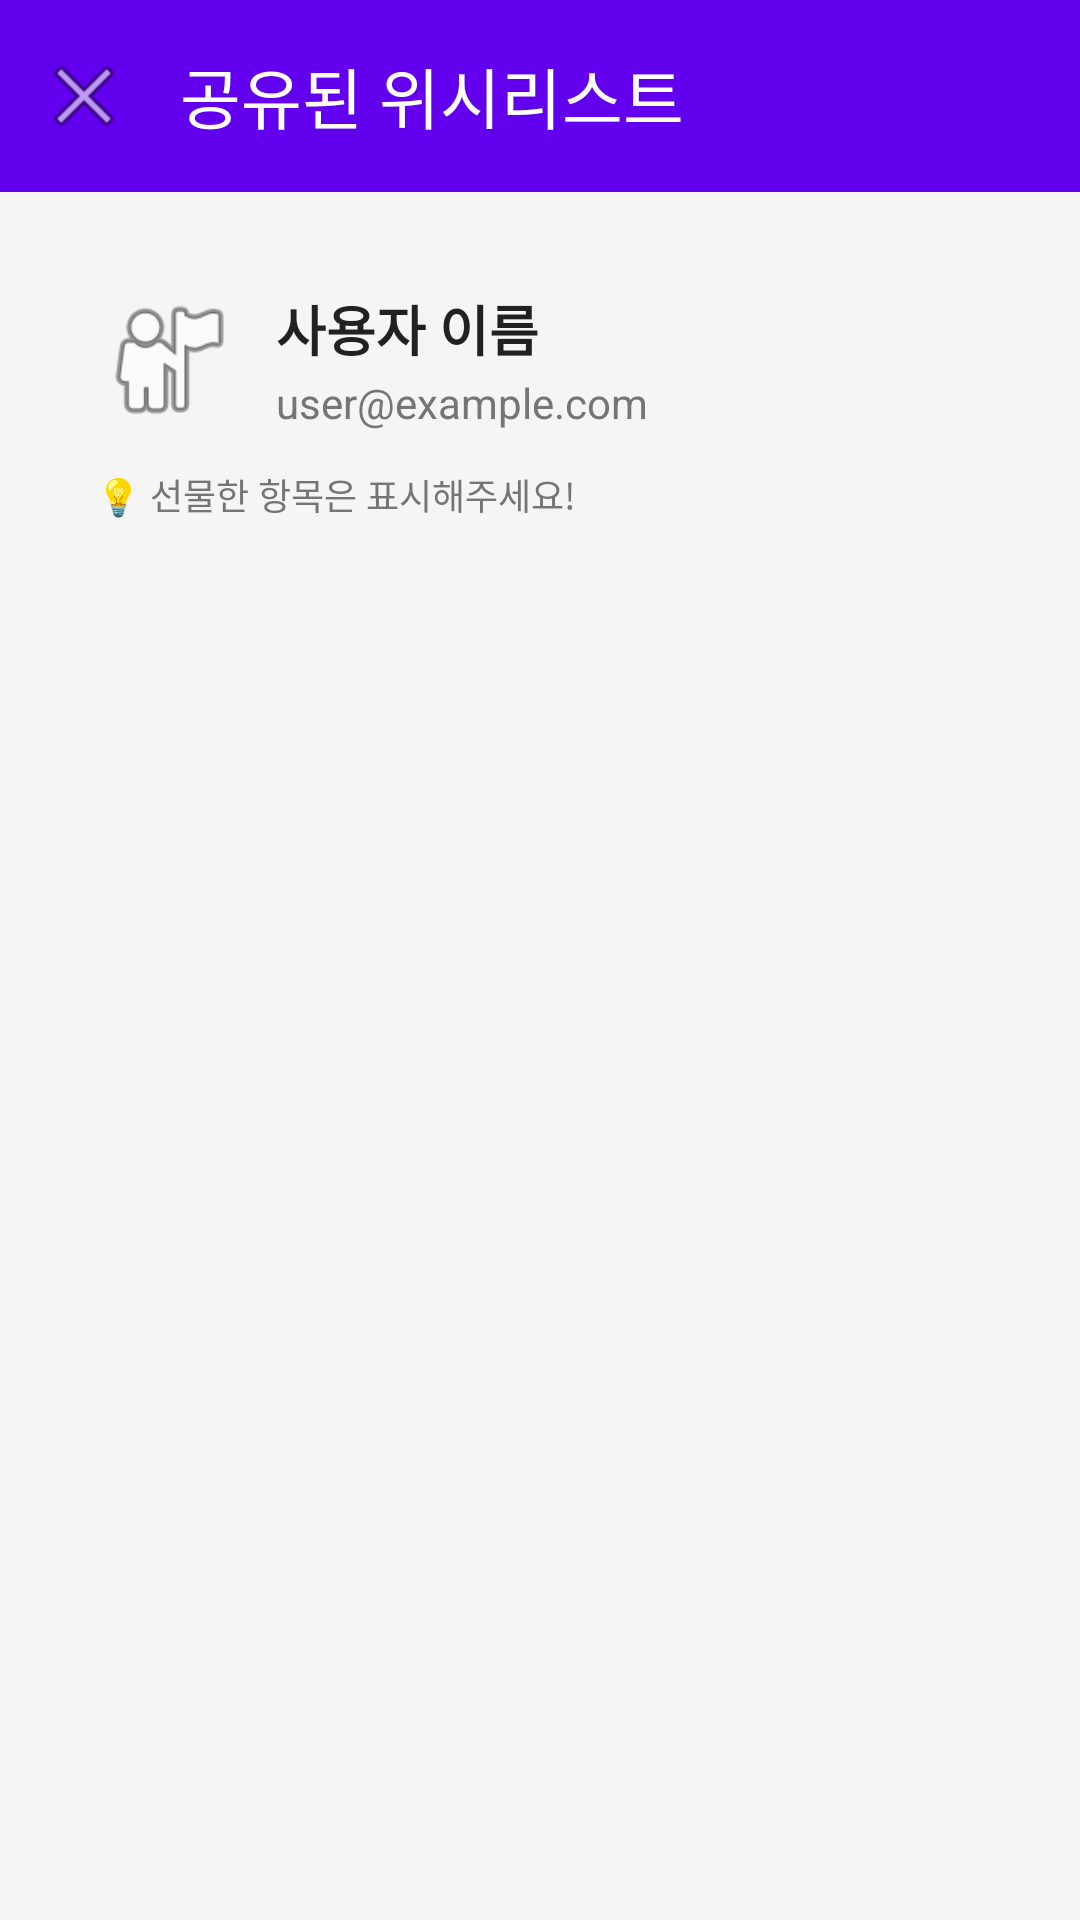

Named icons in this screenshot (1080*1920) and their centers, point (x, y):
프로필 사진: point (169, 360)
